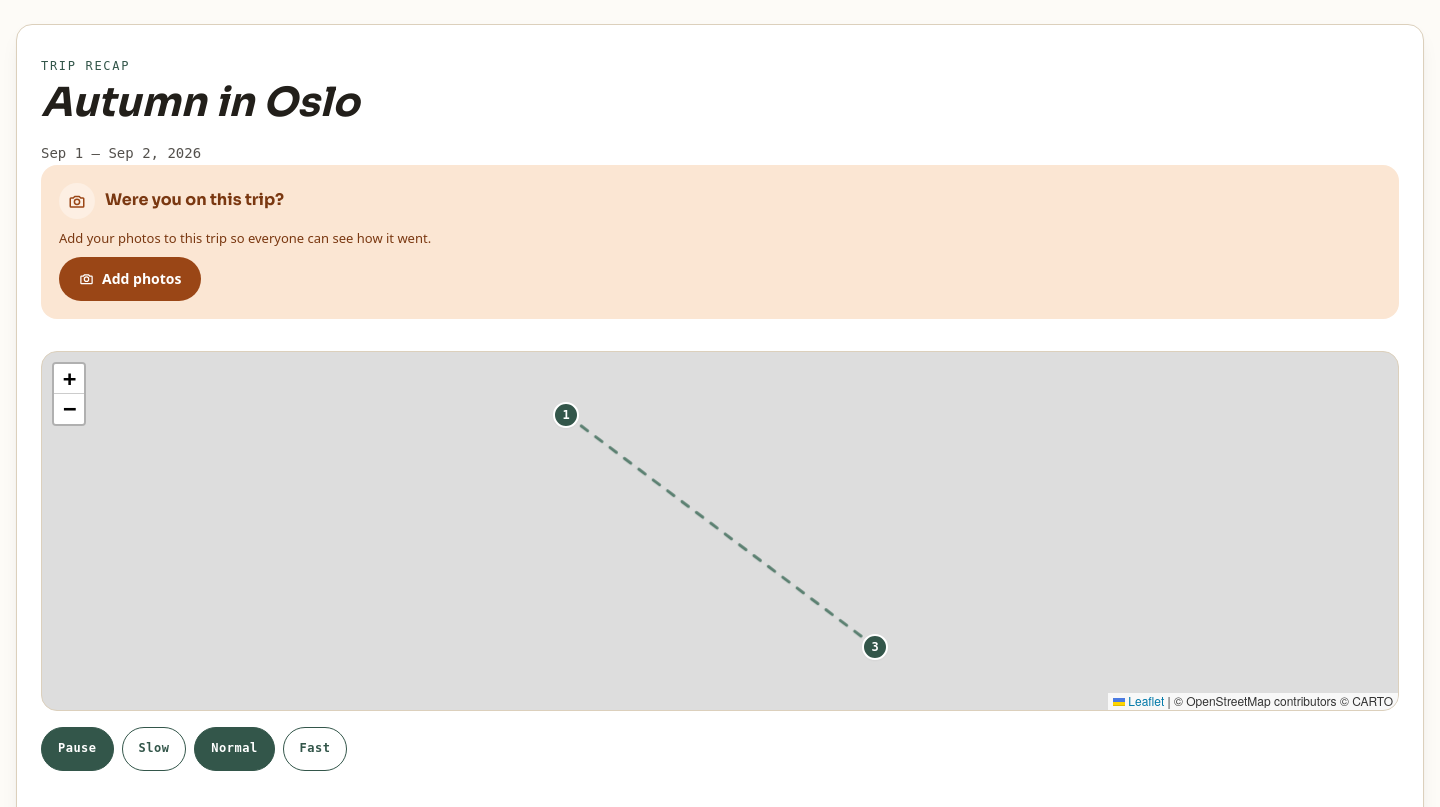
Scenario: RecapPublicPage contributor mode › a signed-in, verified invitee who is not a member yet joins from "Add photos" and lands in contributor mode with the stop picker open
What coordinates should you click on to do the following:
click the button "Add photos"
I would click on:
 (130, 279)
Its box is [59,257,202,301].
(page scrolled)
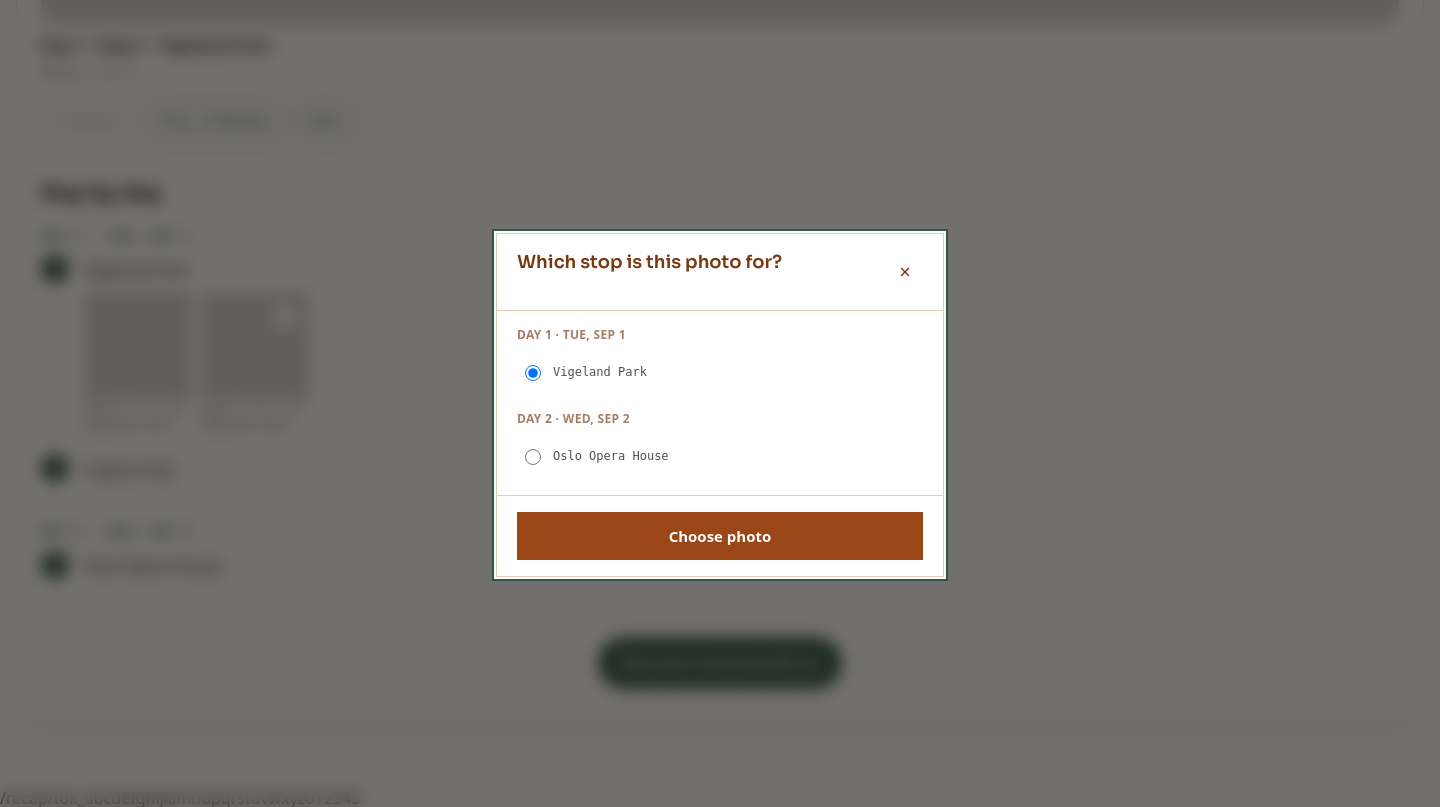
Result: the dialog "Which stop is this photo for?" is shown at [496,233,944,577]
